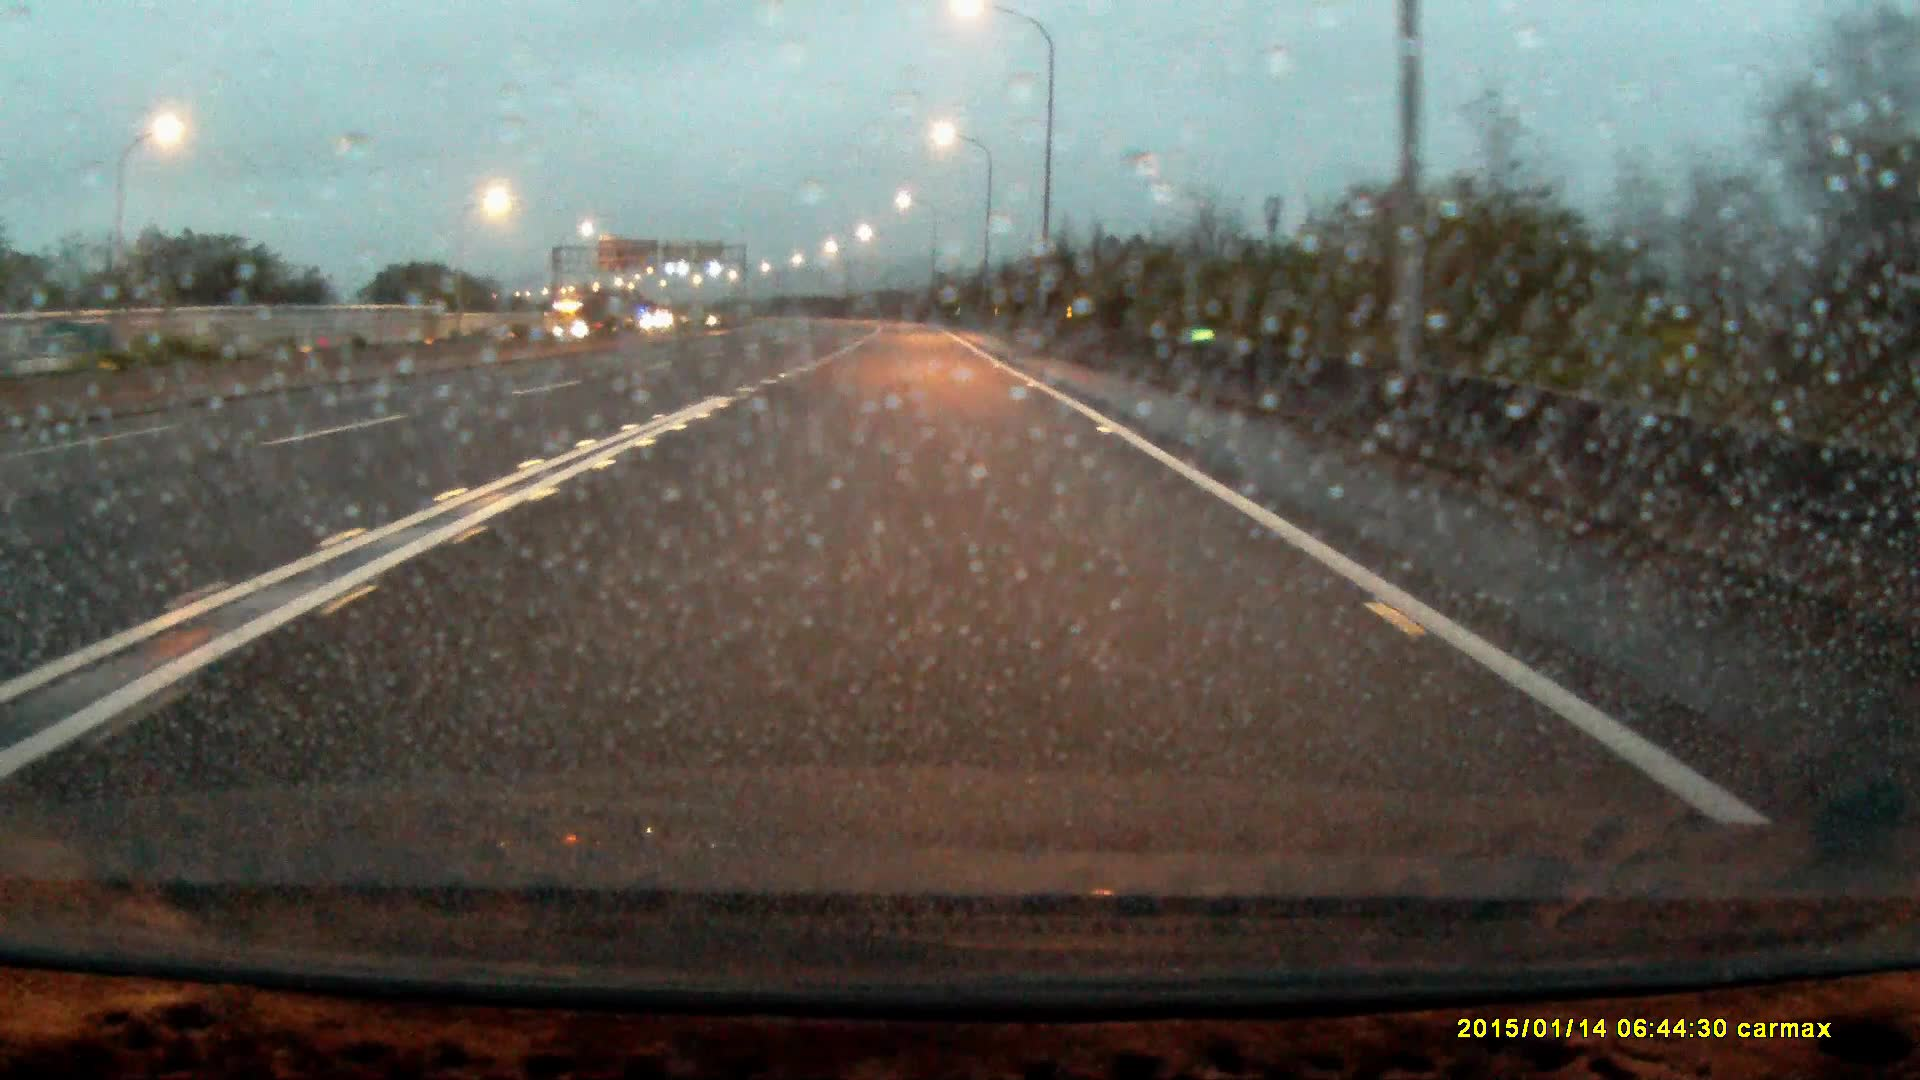vehicle: (549, 295, 605, 345)
